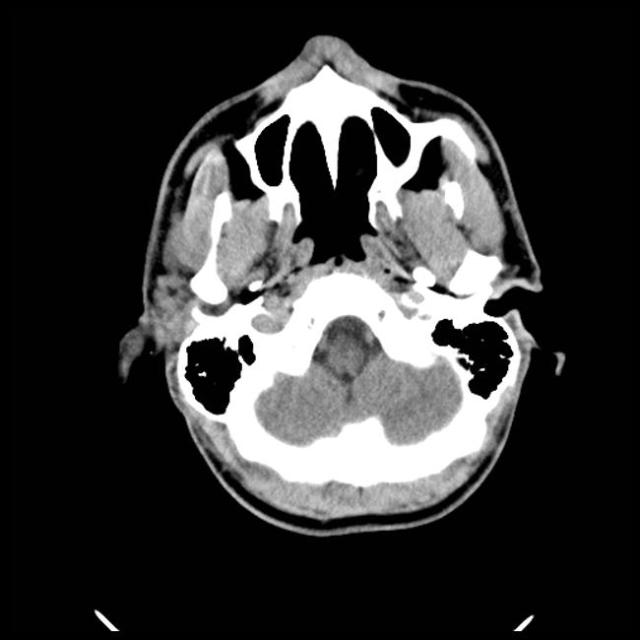lesion: (116, 35, 561, 538)
